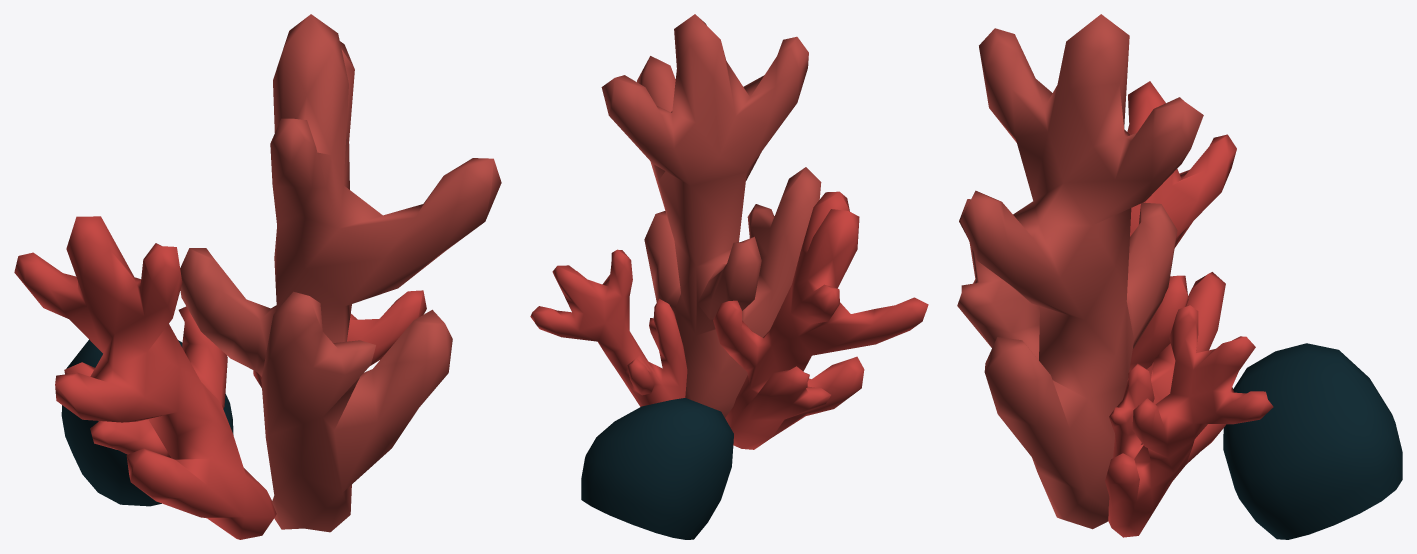
Rendered from singleredcoral2.gltf.
3 renders of one model, left to right at view 1: azimuth 30°, elevation 25°; view 2: azimuth 150°, elevation 25°; view 3: azimuth 270°, elevation 25°, orthographic. The views are drawn at different scales.
Parts seen in each view (by area): view 1: Coral.001, Rock 3; view 2: Coral.001, Rock 3; view 3: Coral.001, Rock 3.
Boxes of the visible parts, x1,y1,x2,y2 form: Coral.001: [14, 14, 501, 539]; Rock 3: [61, 339, 233, 506]; Coral.001: [530, 14, 928, 449]; Rock 3: [581, 398, 733, 539]; Coral.001: [957, 14, 1273, 537]; Rock 3: [1223, 343, 1402, 539].
Bounding box in the file's own units: 2.05 × 2.61 × 1.94.
